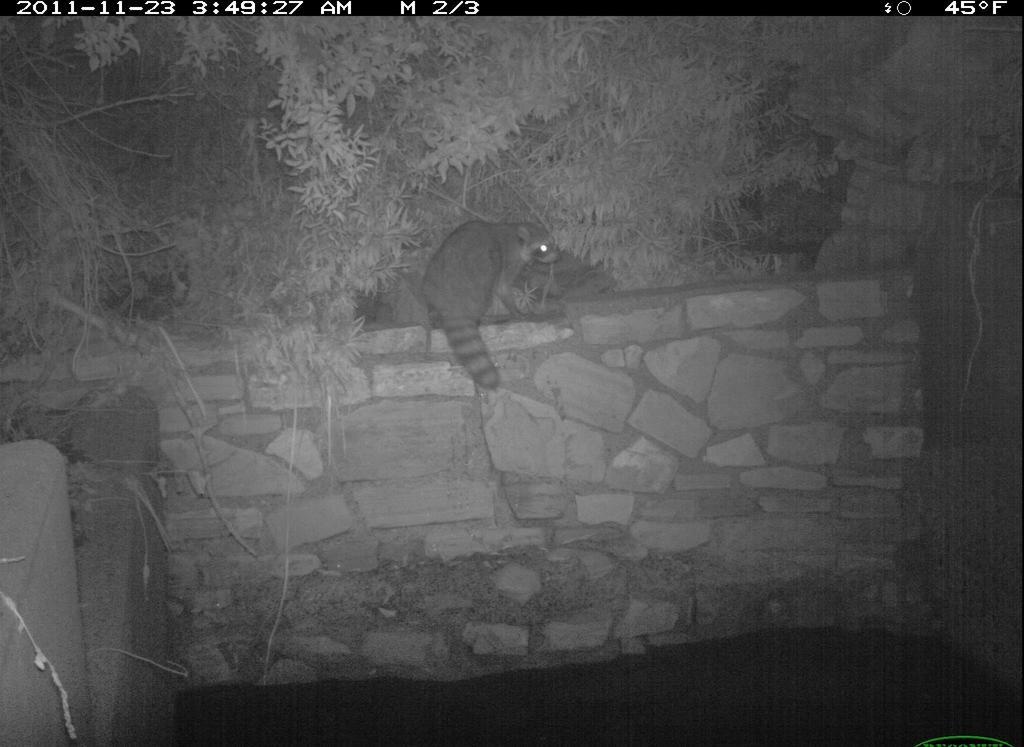raccoon: (411, 194, 570, 404)
